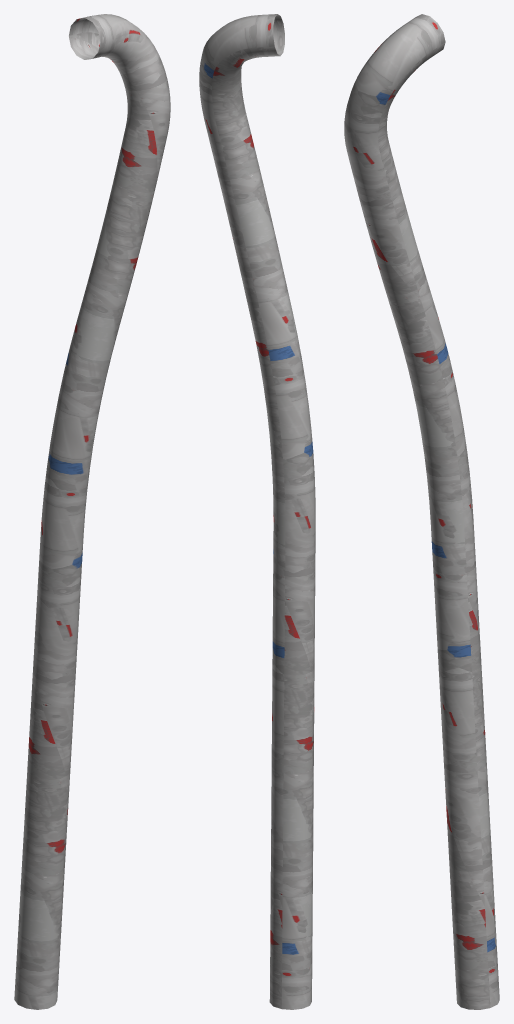
Rendered from Pipe__3.fbx.
The picture shows the model from 3 angles, left to right: view 1: azimuth 90°, elevation 25°; view 2: azimuth 210°, elevation 25°; view 3: azimuth 270°, elevation 25°; orthographic projection. The views are drawn at different scales.
Visible parts, largest first — view 1: MAT_Pipe_01; view 2: MAT_Pipe_01; view 3: MAT_Pipe_01.
Part boxes in pixels (x1,y1,x2,y2): MAT_Pipe_01: (14, 14, 170, 1009); MAT_Pipe_01: (199, 14, 315, 1009); MAT_Pipe_01: (344, 14, 499, 1009).
Bounding box in the file's own units: 1.6 × 20.17 × 2.9.
1 material, 1 textured.
